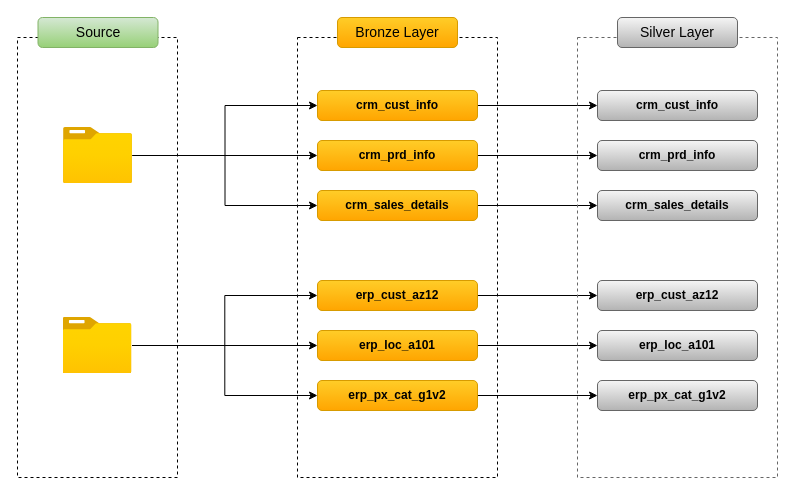
The diagram is 795 pixels wide and 495 high, and some of its shapes have lost their labels. The box of each missing label's shape, as (x1, y1, x2, y2) in pixels:
CRM: (63, 127, 132, 183)
ERP: (62, 317, 132, 373)
